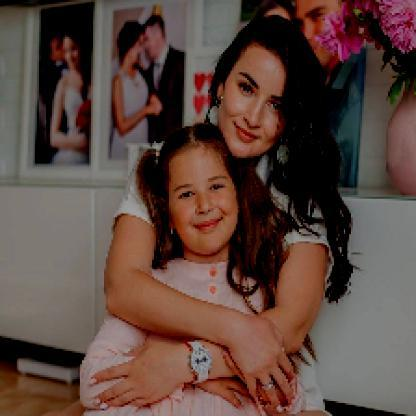child: (79, 124, 310, 416)
